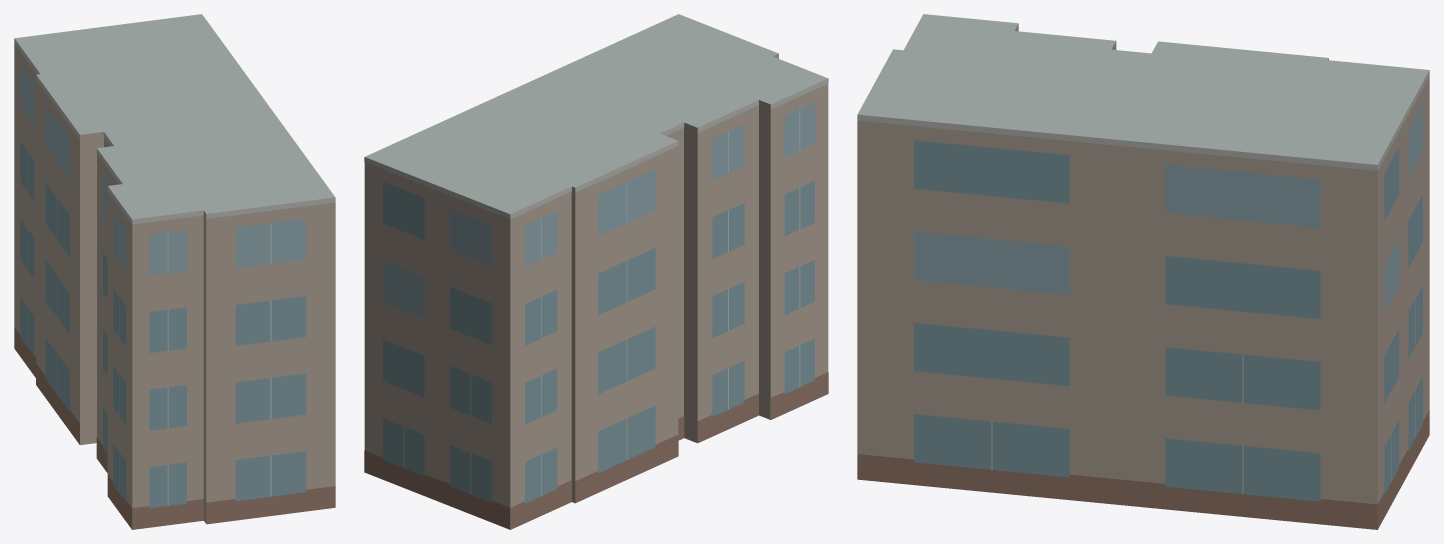
Rendered from survey-upis-32656009.glb.
The picture shows the model from 3 angles, left to right: view 1: azimuth 30°, elevation 25°; view 2: azimuth 150°, elevation 25°; view 3: azimuth 270°, elevation 25°; orthographic projection. The views are drawn at different scales.
Visible parts, largest first — view 1: survey-upis-32656009.tmp; view 2: survey-upis-32656009.tmp; view 3: survey-upis-32656009.tmp.
Boxes of the visible parts, x1,y1,x2,y2 form: survey-upis-32656009.tmp: (14,14,335,529); survey-upis-32656009.tmp: (364,14,828,529); survey-upis-32656009.tmp: (857,14,1429,529).
Size of the model in its own units: 13.4 by 15.1 by 21.47.
